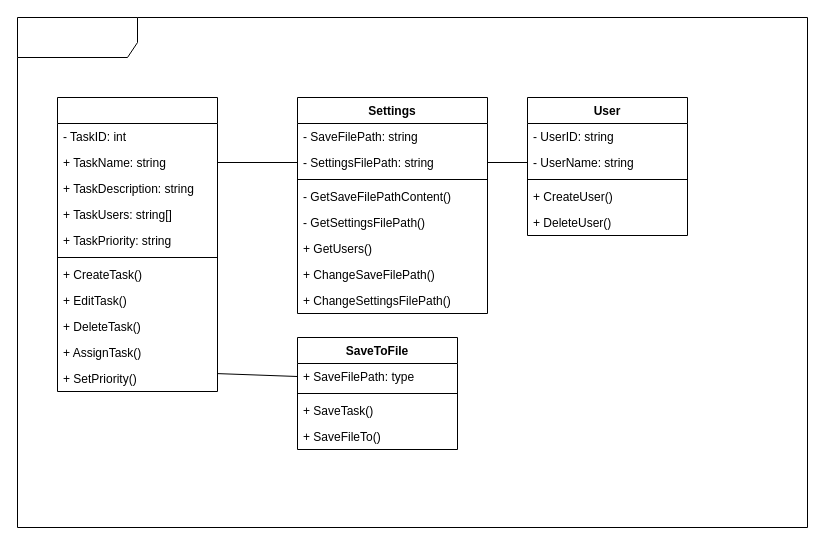
The diagram is 825 pixels wide and 545 high, and some of its shapes have lost their labels. Here are the shapes that lost their labels. From the top down, the box of each, then its label:
(56, 96, 218, 392): ManageTask
(16, 16, 808, 528): To-Do Application
